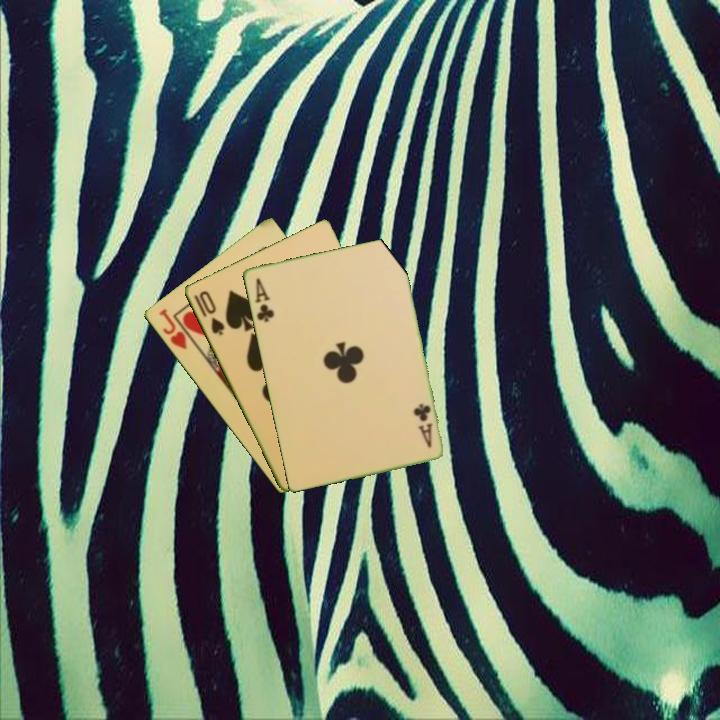10s: (195, 287, 227, 338)
Ac: (251, 274, 277, 325), (410, 400, 435, 451)
Jh: (155, 305, 190, 352)
